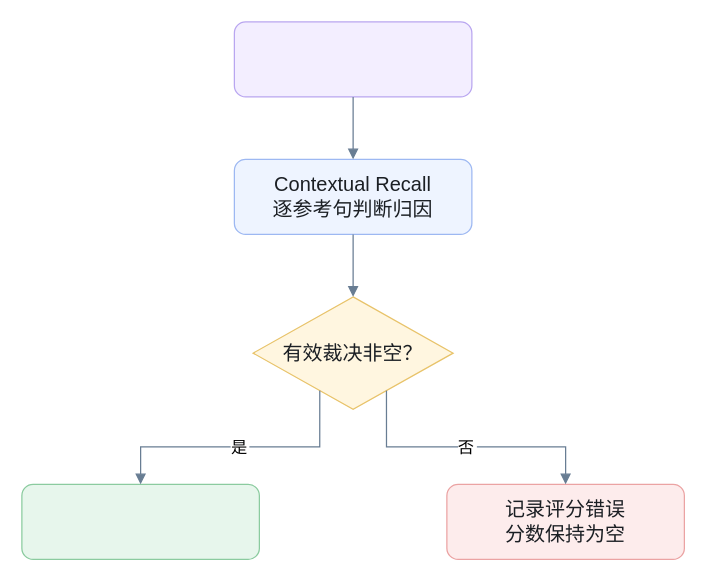
Some shapes in this 706 by 581 pixel diagram are drawn without their labels. Here are the shapes that lost their labels. From the top down, the centre of each, then its label:
point (352, 59): 问题、参考、上下文 构造 DeepEval 样本
point (140, 521): yes 数 ÷ 裁决数 保留逐项理由
